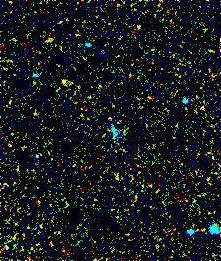star: (48, 66, 78, 96)
